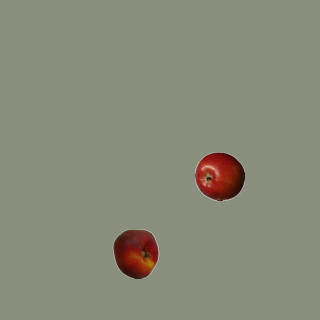Apple Braeburn: (194, 151, 244, 201)
Nectarine Flat: (110, 228, 160, 278)
